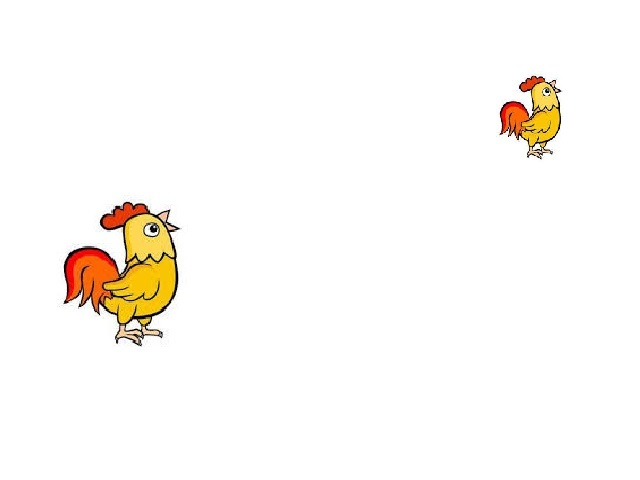crown: (97, 201, 149, 227), (517, 76, 545, 91)
eyes: (142, 222, 160, 235), (543, 87, 552, 99)
feet: (113, 326, 165, 345), (527, 146, 557, 159)
tail: (57, 243, 121, 312), (499, 100, 529, 138)
